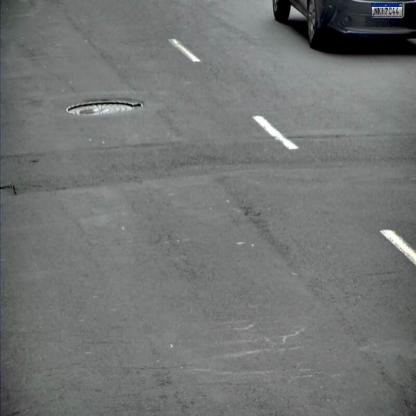PlacaM: (372, 2, 402, 16)
